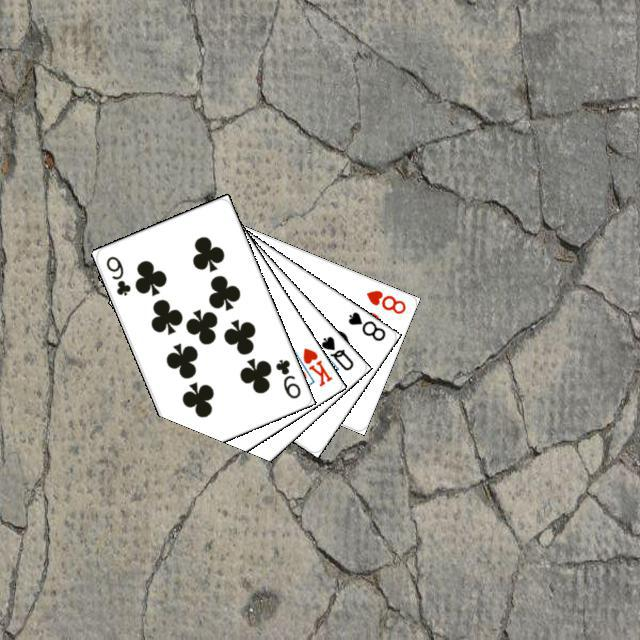8h: (361, 285, 408, 316)
8s: (343, 307, 387, 343)
9c: (271, 354, 302, 400), (101, 251, 132, 297)
Kh: (288, 343, 334, 388)
Qs: (316, 331, 355, 372)
